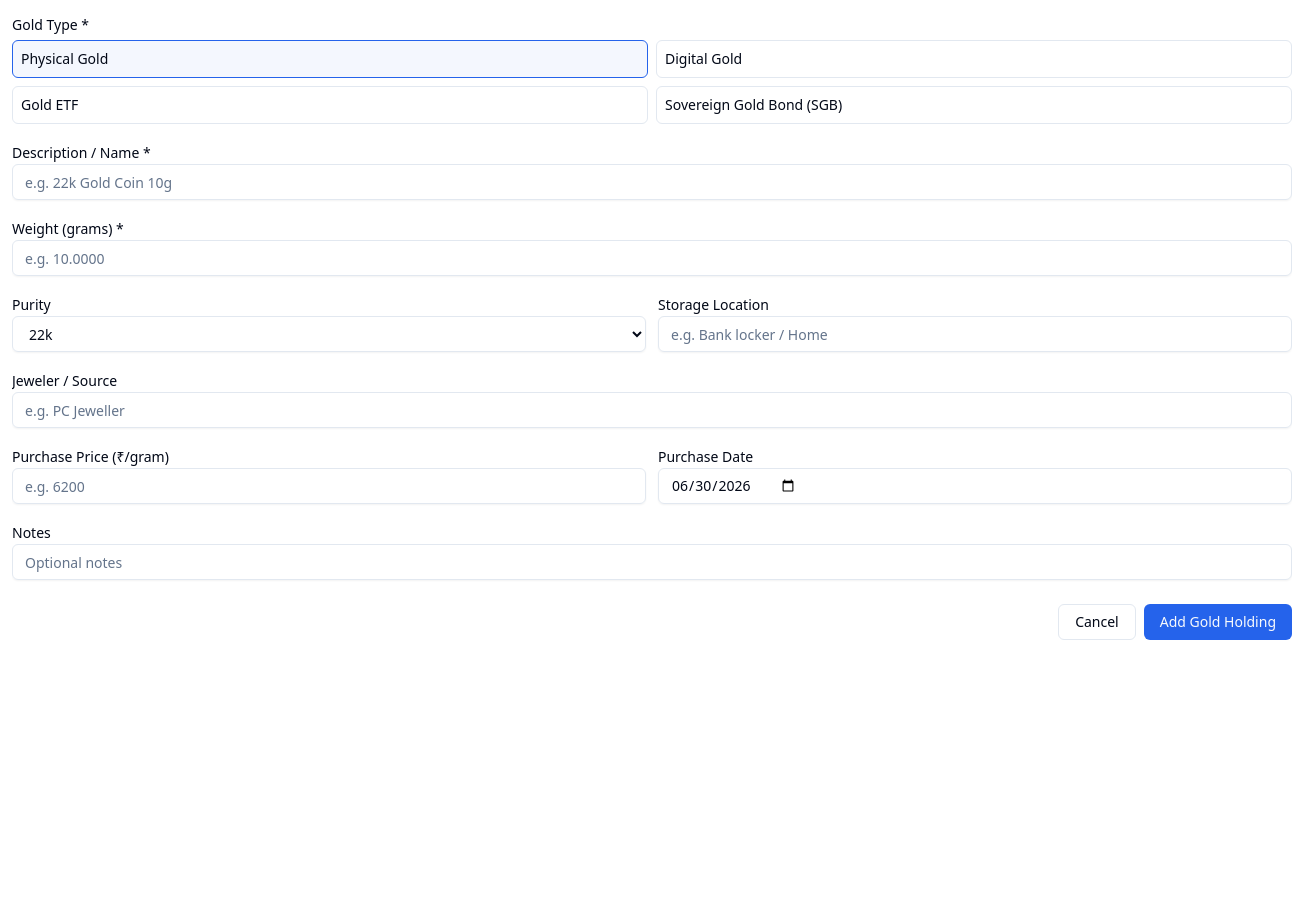
Test: GoldForm › selecting ETF shows ticker and broker fields
Click the radio button showing "etf" at (50, 104), box [12, 86, 648, 124]
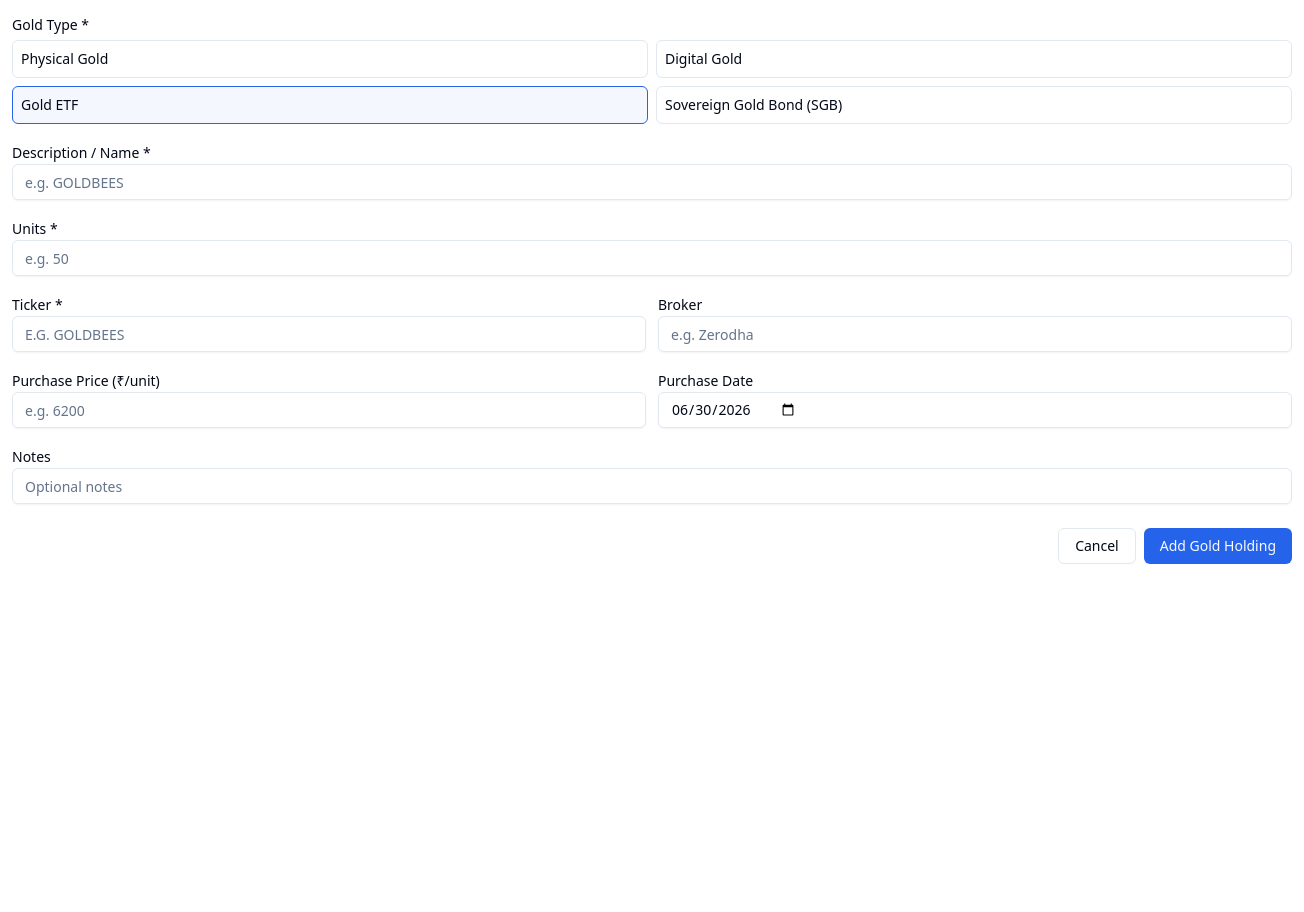
expect the field labelled "Ticker *" is shown: met, box [12, 316, 646, 352]
expect the field labelled "Broker" is shown: met, box [658, 316, 1292, 352]
